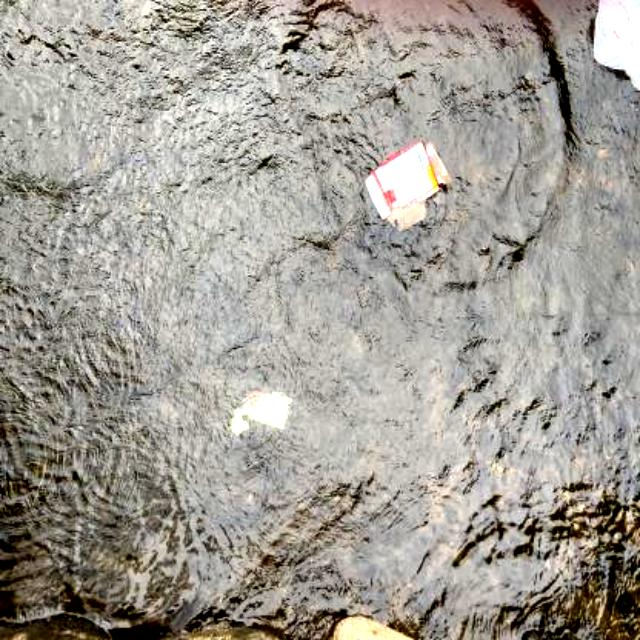Cardboard: (360, 135, 456, 239)
Paper: (228, 386, 296, 446)
Plastic: (586, 0, 638, 102)
